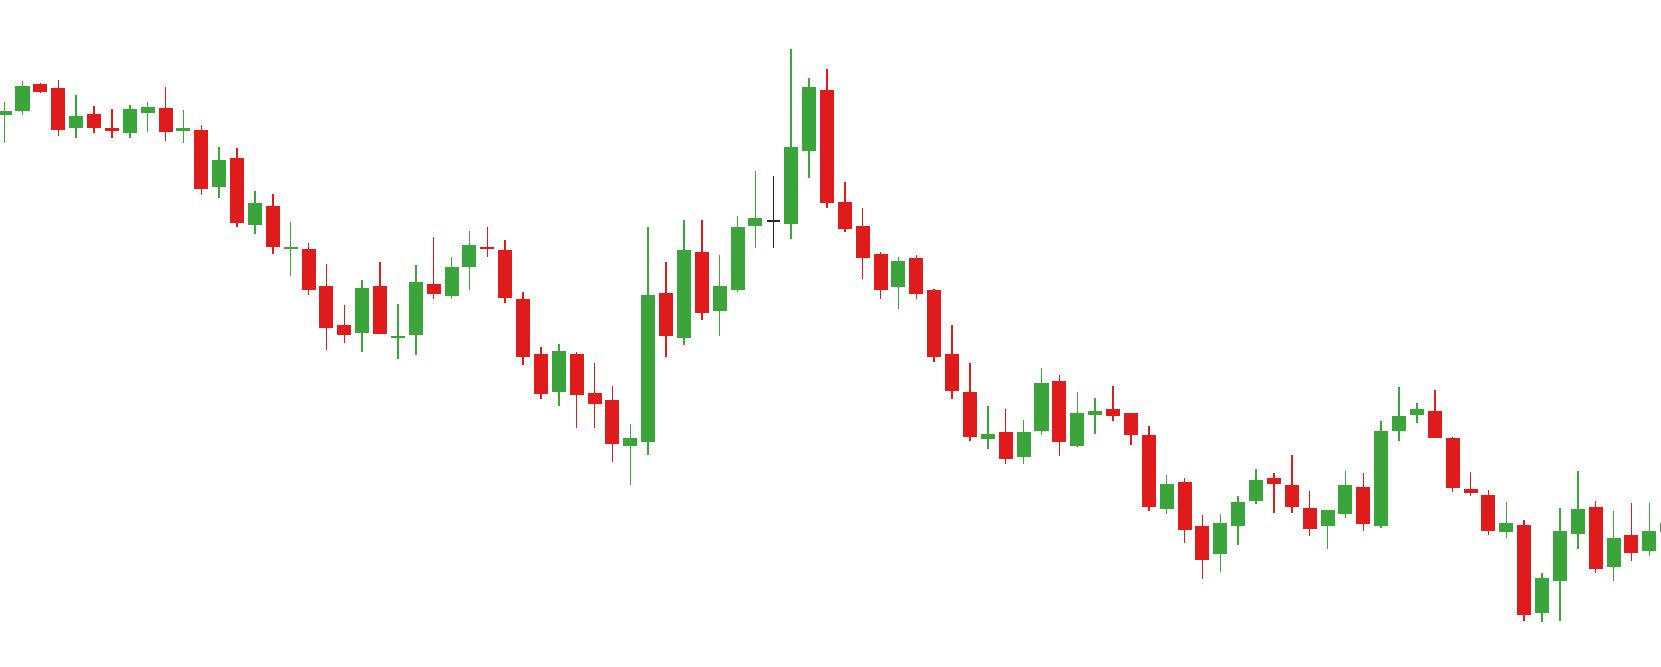sell: (1281, 385, 1463, 505)
